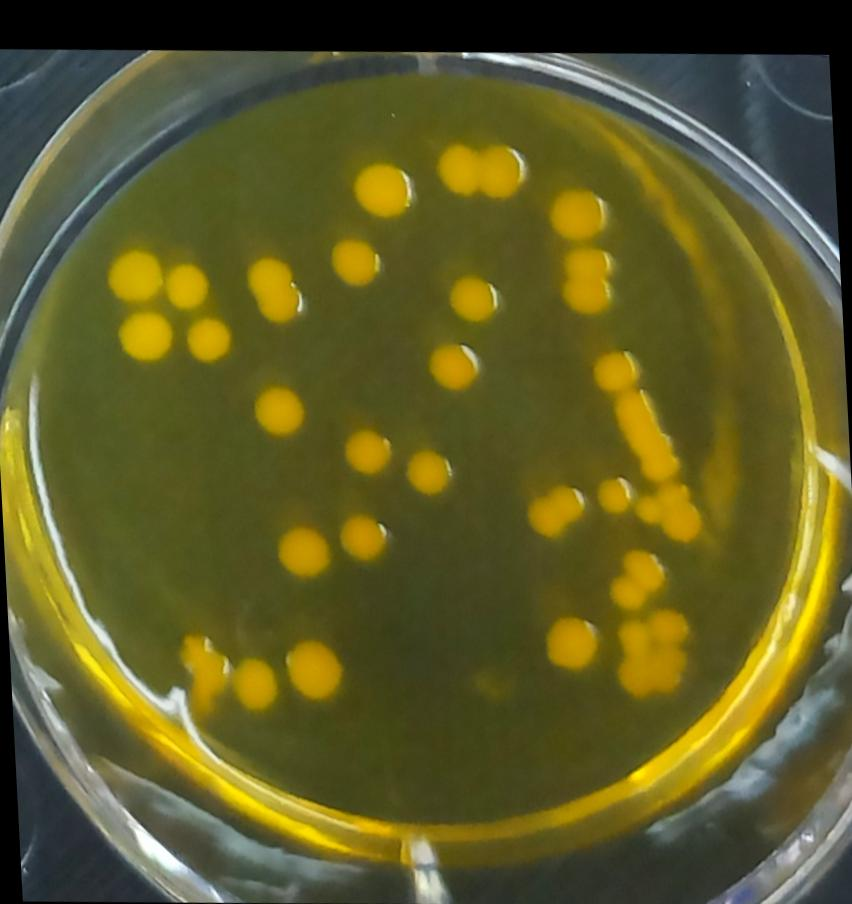vharveyi: (340, 145, 426, 227)
